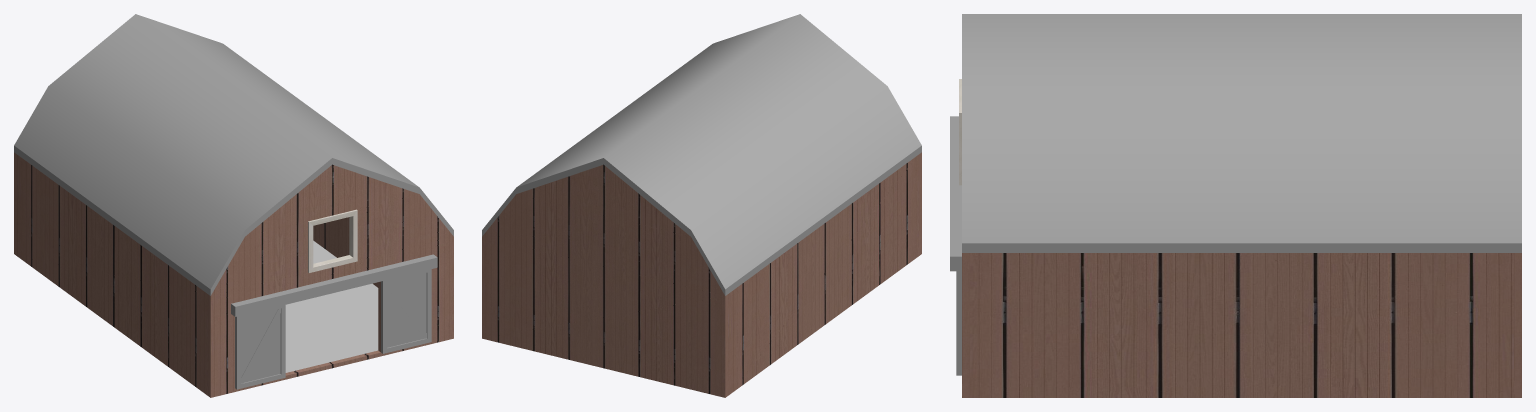
File: barn.fbx
The picture shows the model from 3 angles, left to right: view 1: azimuth 30°, elevation 25°; view 2: azimuth 150°, elevation 25°; view 3: azimuth 270°, elevation 25°; orthographic projection. The views are drawn at different scales.
Visible parts, largest first — view 1: roof, front, wall_L, floor, door (×2), Scorriporta, door_q (×2), wall_R, door_x2; view 2: roof, back_wall, wall_L; view 3: roof, wall_R, Scorriporta, front, back_wall.
Boxes of the visible parts, x1=… form: roof: x1=14, y1=14, x2=453, y2=295; front: x1=208, y1=164, x2=453, y2=397; wall_L: x1=17, y1=154, x2=207, y2=395; floor: x1=285, y1=240, x2=378, y2=372; door (×2): x1=235, y1=273, x2=426, y2=388; Scorriporta: x1=231, y1=254, x2=437, y2=316; door_q (×2): x1=236, y1=269, x2=431, y2=389; wall_R: x1=313, y1=217, x2=378, y2=287; door_x2: x1=241, y1=308, x2=280, y2=383; roof: x1=482, y1=14, x2=921, y2=295; back_wall: x1=482, y1=164, x2=727, y2=397; wall_L: x1=728, y1=154, x2=918, y2=395; roof: x1=962, y1=14, x2=1521, y2=252; wall_R: x1=970, y1=253, x2=1513, y2=397; Scorriporta: x1=950, y1=116, x2=961, y2=271; front: x1=959, y1=79, x2=969, y2=397; back_wall: x1=1514, y1=253, x2=1521, y2=397.
Bounding box in the file's own units: 10.01 × 8.27 × 14.31.
